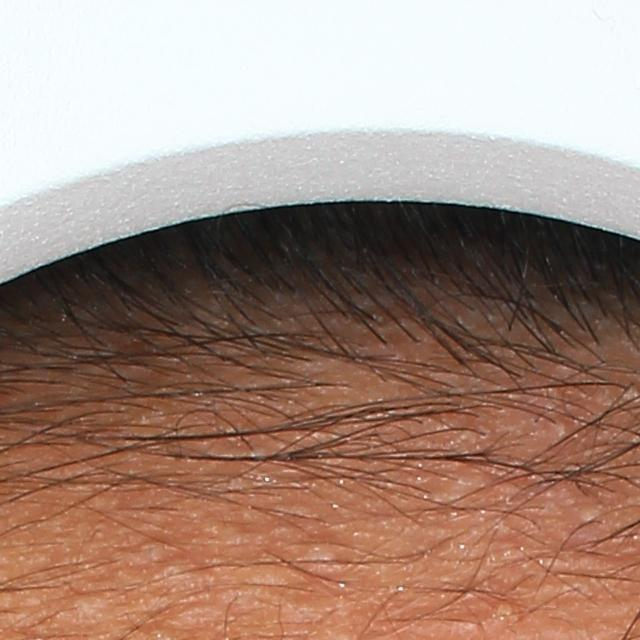comedo: (540, 552, 625, 579), (300, 529, 347, 577), (52, 590, 111, 624), (156, 555, 203, 588), (484, 596, 521, 627), (572, 500, 602, 528), (547, 415, 574, 446)
